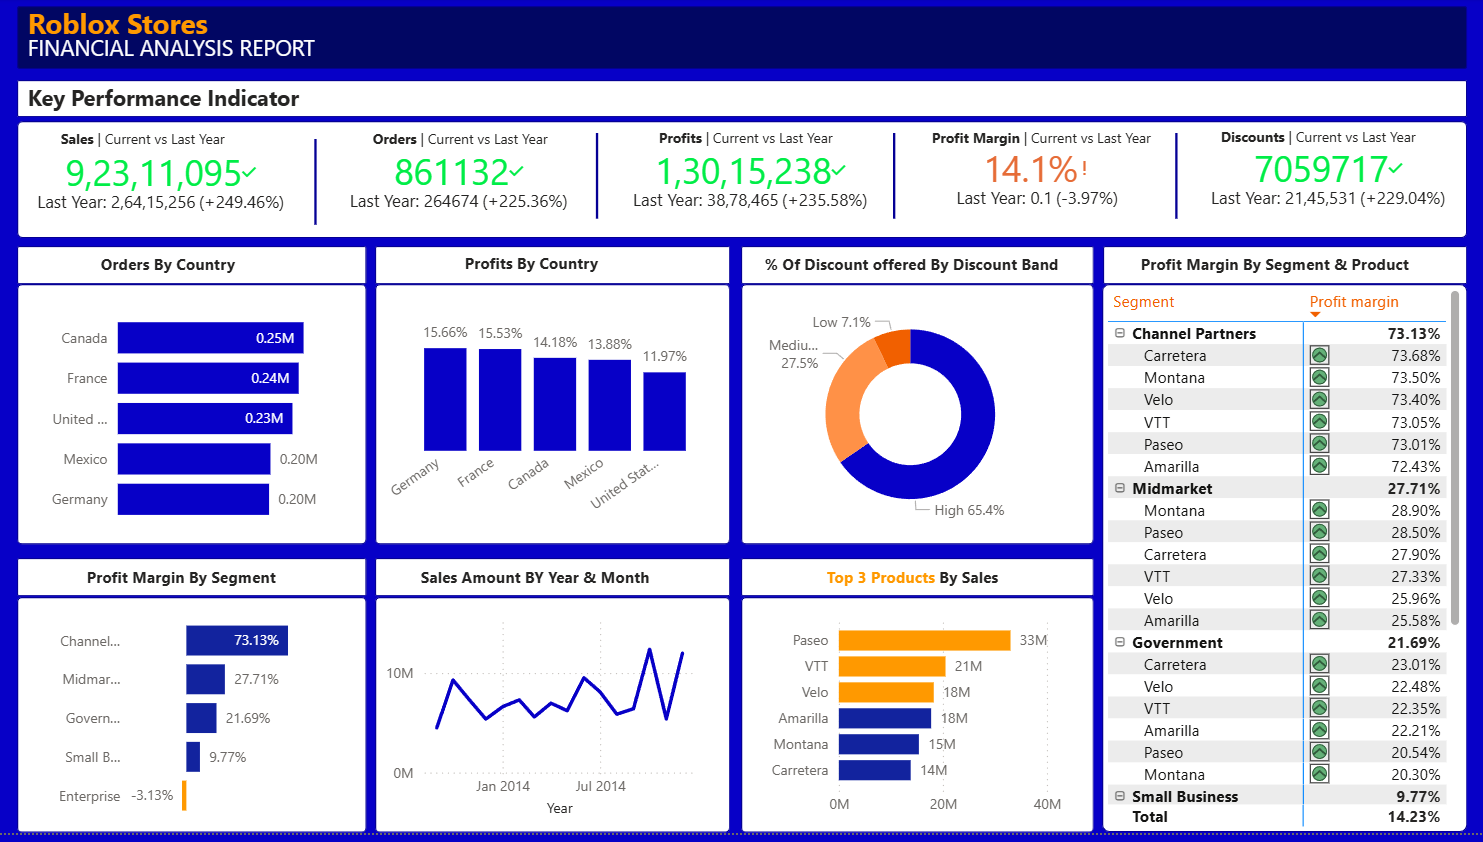

What the dashboard file says about the page in this screenshot:
{"tool":"powerbi","page":{"name":"FINANCIAL ANALYSIS REPORT","canvas":[1280,720],"ordinal":0},"visuals":[{"type":"shape","box":[15.6,6.8,1250.8,54.5],"z":0},{"type":"shape","box":[15.6,71,1250.8,32.1],"z":1000},{"type":"shape","box":[15.6,106,1250.8,101.2],"z":2000},{"type":"shape","box":[323.9,247.1,306.4,224.7],"z":3000},{"type":"shape","box":[323.9,214,306.4,33.1],"z":4000},{"type":"shape","box":[640,247.1,304.4,224.7],"z":5000},{"type":"shape","box":[640,483.4,304.4,33.1],"z":6000},{"type":"shape","box":[323.9,516.5,306.4,203.3],"z":7000},{"type":"shape","box":[15.6,214,301.5,33.1],"z":8000},{"type":"shape","box":[15.6,516.5,301.5,203.3],"z":9000},{"type":"shape","box":[15.6,483.4,301.5,33.1],"z":10000},{"type":"shape","box":[640,516.5,304.4,203.3],"z":11000},{"type":"shape","box":[323.9,483.4,306.4,33.1],"z":12000},{"type":"shape","box":[15.6,247.1,301.5,224.7],"z":13000},{"type":"shape","box":[640,214,304.4,33.1],"z":14000},{"type":"shape","box":[952.2,214,314.2,33.1],"z":15000},{"type":"textbox","box":[19.5,0,199.4,50.6],"z":16000},{"type":"textbox","box":[19.5,25.3,388.1,37.9],"z":17000},{"type":"textbox","box":[19.5,68.1,314.2,37.9],"z":18000},{"type":"kpi","fields":{"TrendLine":["Date Table.Year"],"Indicator":["Analysis.Orders"],"Goal":["Analysis.Oreders LY"]},"box":[277.2,119.6,239.3,77.8],"z":19000},{"type":"shape","box":[239.3,121.6,68.1,73.9],"z":20000},{"type":"kpi","fields":{"TrendLine":["Date Table.Year"],"Indicator":["Analysis.Profit"],"Goal":["Analysis.Profit LY"]},"box":[528.1,115.7,240.2,85.6],"z":21000},{"type":"kpi","fields":{"TrendLine":["Date Table.Year"],"Goal":["Analysis.Profit Margin LY"],"Indicator":["Analysis.Profit margin"]},"box":[775.2,113.8,240.2,85.6],"z":22000},{"type":"kpi","fields":{"TrendLine":["Date Table.Year"],"Goal":["Analysis.Discounts Offered LY"],"Indicator":["Analysis.Discounts offfered"]},"box":[1026.1,113.8,240.2,85.6],"z":23000},{"type":"kpi","fields":{"Indicator":["Analysis.Sales Amount"],"TrendLine":["Date Table.Year"],"Goal":["Analysis.Sales Amount LY"]},"box":[19.5,120.6,239.3,77.8],"z":24000},{"type":"textbox","box":[317.1,107,179.9,31.1],"z":25000},{"type":"shape","box":[481.5,116.7,69.1,73.9],"z":26000},{"type":"shape","box":[736.3,116.7,71,73.9],"z":27000},{"type":"shape","box":[966.8,116.7,97.3,73.9],"z":28000},{"type":"textbox","box":[560.2,106,176,29.2],"z":29000},{"type":"textbox","box":[799.5,106,215.9,32.1],"z":30000},{"type":"textbox","box":[1048.5,105,195.5,28.2],"z":31000},{"type":"barChart","fields":{"Category":["financials.Country"],"Y":["Analysis.Orders"]},"box":[28.2,252.9,265.5,213],"z":32000},{"type":"textbox","box":[82.7,215.9,157.6,29.2],"z":33000},{"type":"columnChart","fields":{"Category":["financials.Country"],"Y":["Analysis.Profit margin"]},"box":[327.8,263.6,289.8,191.6],"z":34000},{"type":"textbox","box":[396.8,215,164.4,31.1],"z":35000},{"type":"donutChart","fields":{"Y":["Analysis.Discounts Offered LY"],"Category":["financials.Discount Band"]},"box":[658.5,247.1,255.8,224.7],"z":36000},{"type":"textbox","box":[655.6,215.9,280.1,29.2],"z":37000},{"type":"textbox","box":[48.6,107,179.9,31.1],"z":38000},{"type":"barChart","fields":{"Category":["financials.Segment"],"Y":["Analysis.Profit margin"]},"box":[34,514.5,266.5,205.2],"z":39000},{"type":"lineChart","fields":{"Y":["Analysis.Sales Amount"],"Category":["Date Table.Date.Variation.Date Hierarchy.Year","Date Table.Date.Variation.Date Hierarchy.Month"]},"box":[328.8,525.2,287.9,185.8],"z":40000},{"type":"barChart","fields":{"Y":["Analysis.Sales Amount"],"Category":["financials.Product"]},"box":[656.5,523.3,277.2,189.7],"z":41000},{"type":"textbox","box":[71,485.3,192.6,29.2],"z":42000},{"type":"textbox","box":[358.9,485.3,226.6,29.2],"z":43000},{"type":"textbox","box":[709.1,485.3,166.3,29.2],"z":44000},{"type":"shape","box":[951.2,247.1,315.1,472.7],"z":45000},{"type":"pivotTable","fields":{"Rows":["financials.Segment","financials.Product"],"Values":["Analysis.Profit margin"]},"box":[951.2,247.1,314.2,472.7],"z":46000},{"type":"textbox","box":[979.5,215.9,258.7,29.2],"z":47000}]}

Visuals, with their boxes in screenshot pixels (x1, y1, x2, y2), scaled from the page's 1280x720 canvas onto the 1483x842 screenshot:
shape: [18,8,1467,72]
shape: [18,83,1467,121]
shape: [18,124,1467,242]
shape: [375,289,730,552]
shape: [375,250,730,289]
shape: [742,289,1094,552]
shape: [742,565,1094,604]
shape: [375,604,730,841]
shape: [18,250,367,289]
shape: [18,604,367,841]
shape: [18,565,367,604]
shape: [742,604,1094,841]
shape: [375,565,730,604]
shape: [18,289,367,552]
shape: [742,250,1094,289]
shape: [1103,250,1467,289]
textbox: [23,0,254,59]
textbox: [23,30,472,74]
textbox: [23,80,387,124]
kpi - Date Table.Year x Analysis.Orders: [321,140,598,231]
shape: [277,142,356,229]
kpi - Date Table.Year x Analysis.Profit: [612,135,890,235]
kpi - Date Table.Year x Analysis.Profit Margin LY: [898,133,1176,233]
kpi - Date Table.Year x Analysis.Discounts Offered LY: [1189,133,1467,233]
kpi - Analysis.Sales Amount x Date Table.Year: [23,141,300,232]
textbox: [367,125,576,162]
shape: [558,136,638,223]
shape: [853,136,935,223]
shape: [1120,136,1233,223]
textbox: [649,124,853,158]
textbox: [926,124,1176,162]
textbox: [1215,123,1441,156]
barChart - financials.Country x Analysis.Orders: [33,296,340,545]
textbox: [96,252,278,287]
columnChart - financials.Country x Analysis.Profit margin: [380,308,716,532]
textbox: [460,251,650,288]
donutChart - Analysis.Discounts Offered LY x financials.Discount Band: [763,289,1059,552]
textbox: [760,252,1084,287]
textbox: [56,125,265,162]
barChart - financials.Segment x Analysis.Profit margin: [39,602,348,841]
lineChart - Analysis.Sales Amount x Date Table.Date.Variation.Date Hierarchy.Year: [381,614,715,831]
barChart - Analysis.Sales Amount x financials.Product: [761,612,1082,834]
textbox: [82,568,305,602]
textbox: [416,568,678,602]
textbox: [822,568,1014,602]
shape: [1102,289,1467,841]
pivotTable - financials.Segment x financials.Product: [1102,289,1466,841]
textbox: [1135,252,1435,287]
